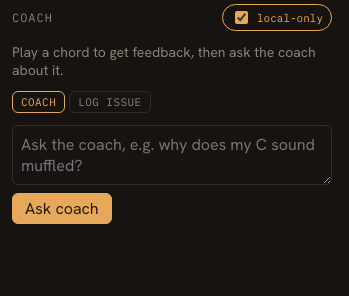
Test case: CoachColumn — log issue mode (field-testing debug logger) › submitting a note appends an entry, clears the textarea, and shows the logged confirmation with the running count
Click the tab with test id "coach-tab-log" at {"x": 110, "y": 102}, box [69, 91, 151, 113]
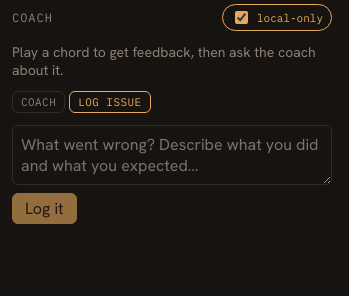
Replace the text in the text box with placeholder "What went wrong" with "chord detector froze on Am" at {"x": 172, "y": 155}, box [12, 125, 332, 185]
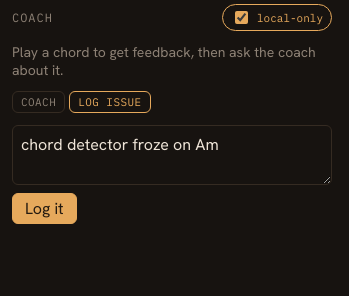
Click the button with test id "debug-log-submit" at {"x": 44, "y": 208}, box [12, 193, 76, 224]
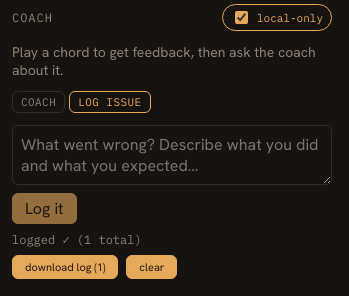
Expected: the text box with placeholder "What went wrong" is empty, [12, 125, 332, 185]
Expected: the text with test id "debug-log-count" reads "logged ✓ (1 total)", [12, 232, 142, 247]
